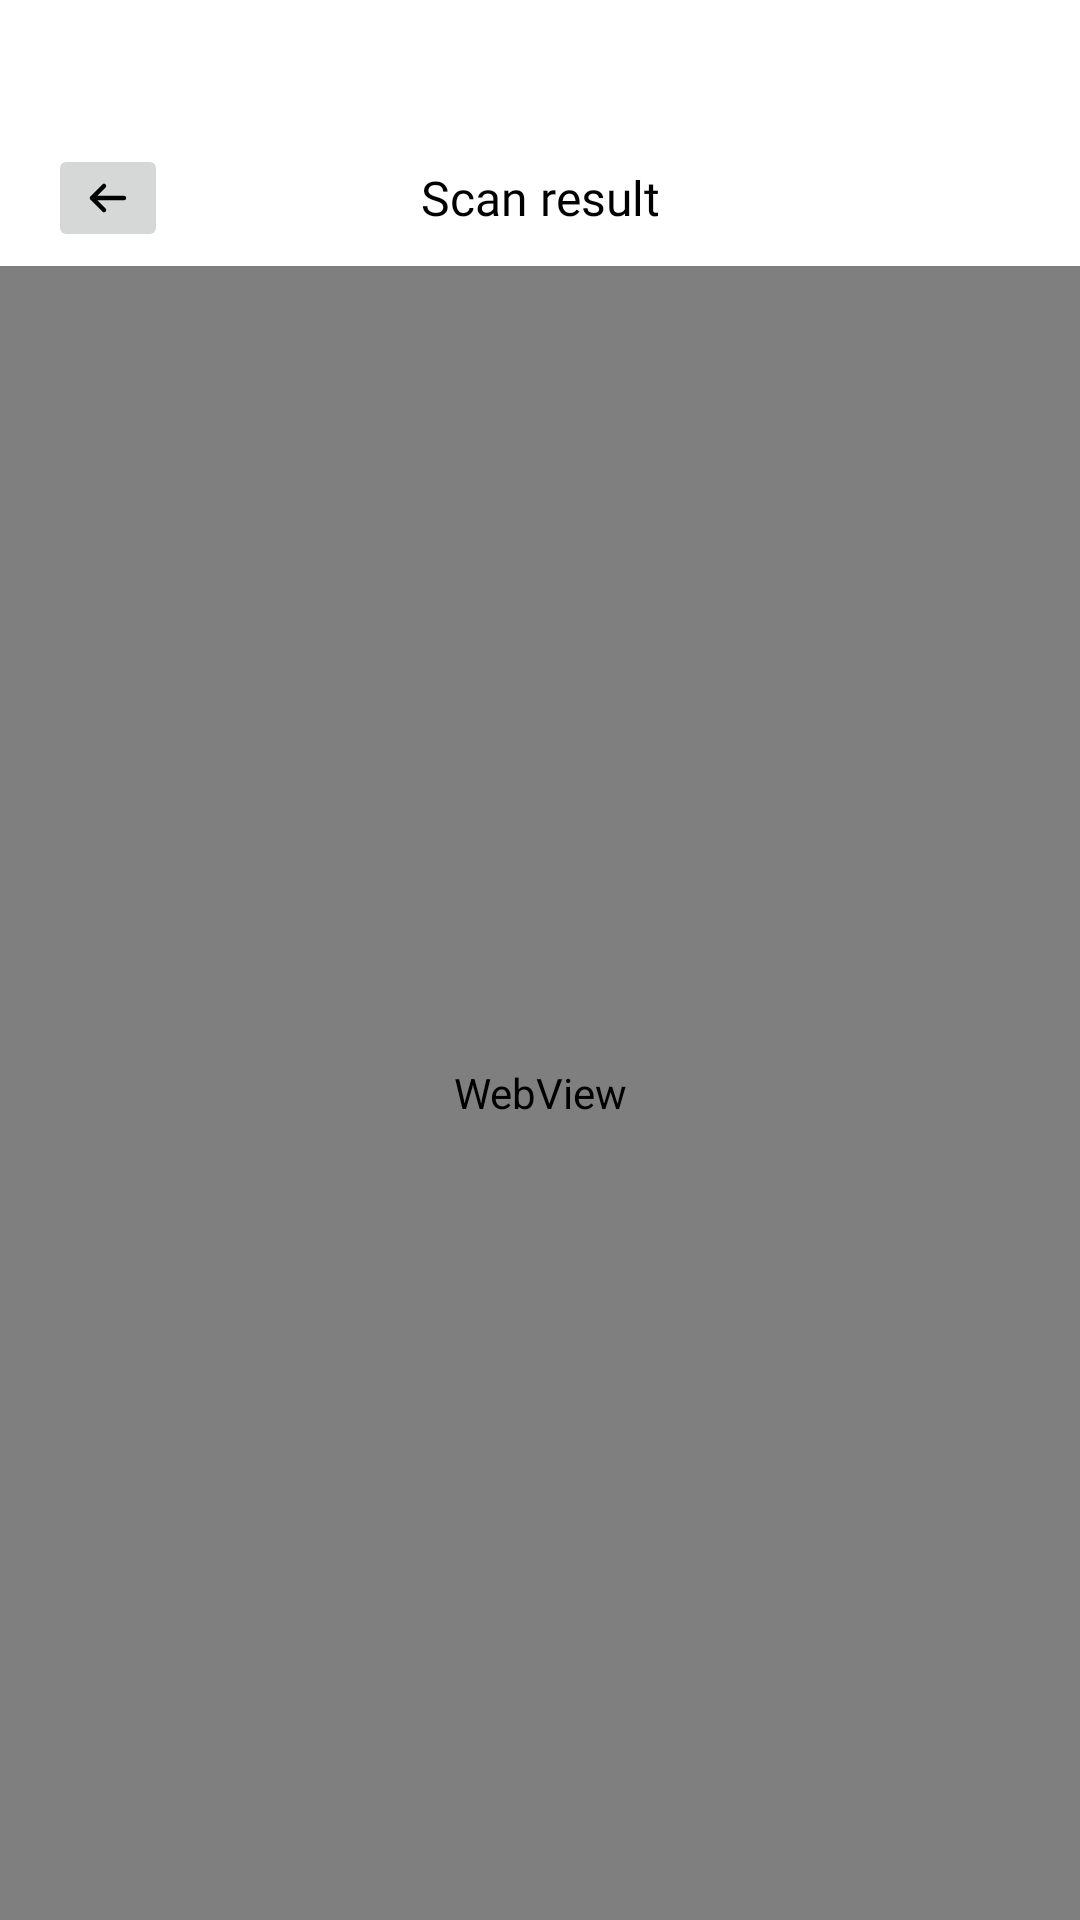

Icons on this 1080px×1920px Android screen, each with the point to tap as [x,y]:
arrow: [108,198]
